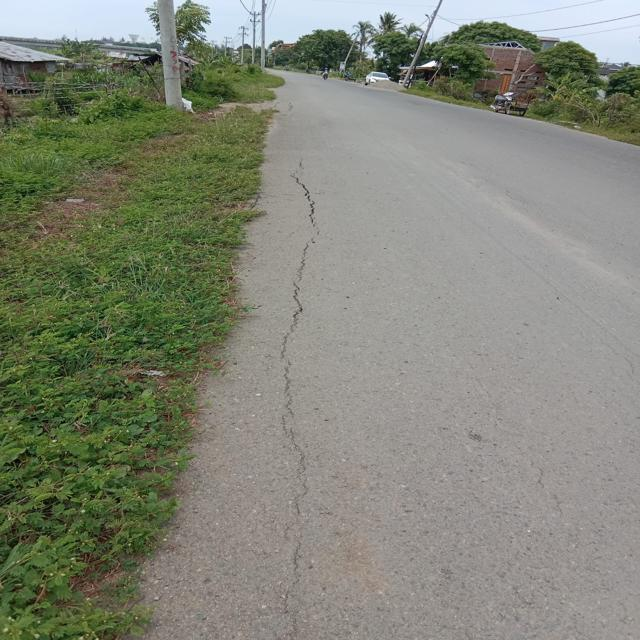Memanjang: (253, 172, 329, 640)
Pinggir: (78, 130, 296, 640)
